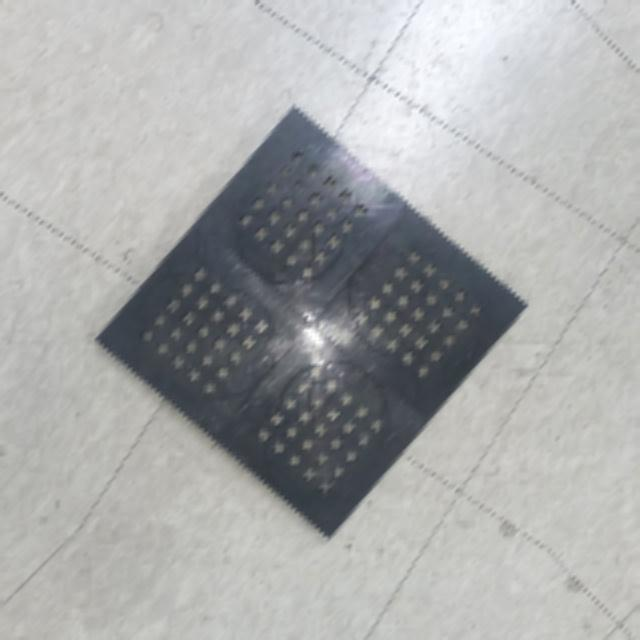pallet: (82, 92, 538, 548)
